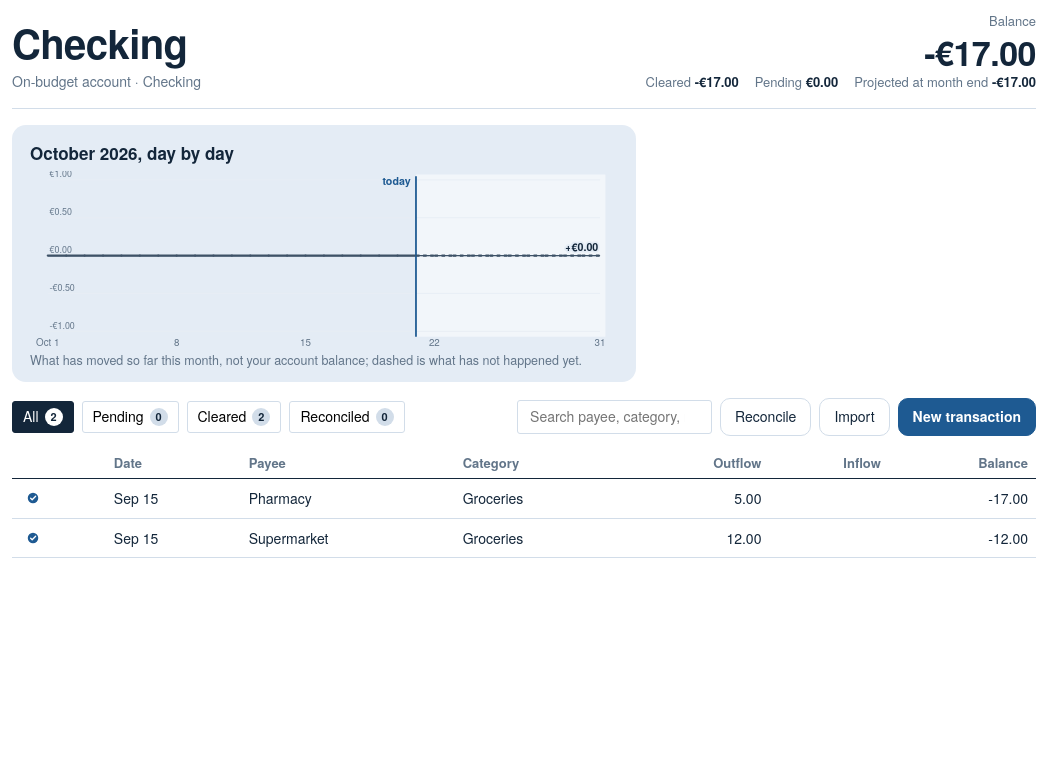
Test case: AccountRegisterScreen (#54, #333) › filters by search text
Expected: the button "Supermarket" is shown, left=249, top=528, right=447, bottom=548
In the search field with placeholder "Search payee, category, memo": {"x": 615, "y": 417} left=528, top=405, right=701, bottom=428, type "pharmacy"
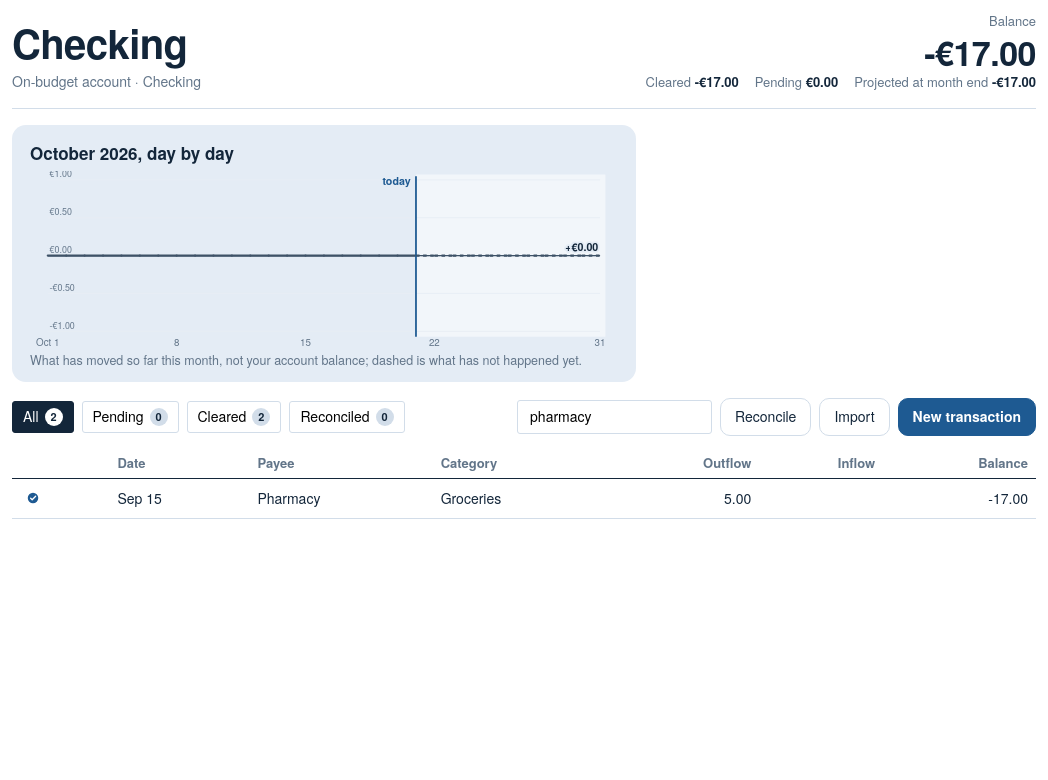
Expected: the button "Pharmacy" is shown, left=257, top=488, right=425, bottom=509
Expected: the button "Supermarket" is gone
